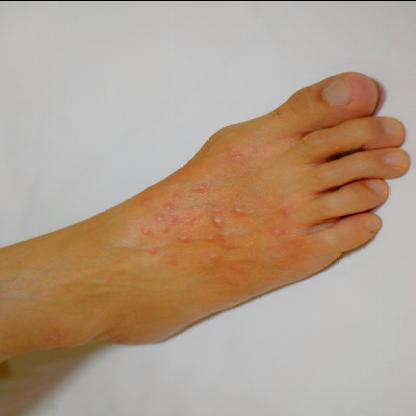Fire ant: (135, 212, 199, 242), (203, 228, 237, 258), (142, 244, 180, 268), (158, 189, 184, 209), (188, 180, 213, 192), (230, 204, 252, 216), (210, 211, 228, 225), (228, 263, 250, 274), (113, 263, 128, 278), (136, 192, 152, 206), (276, 205, 292, 217), (266, 224, 282, 236), (230, 152, 246, 162), (222, 276, 238, 286), (288, 237, 304, 246), (102, 274, 112, 288)
